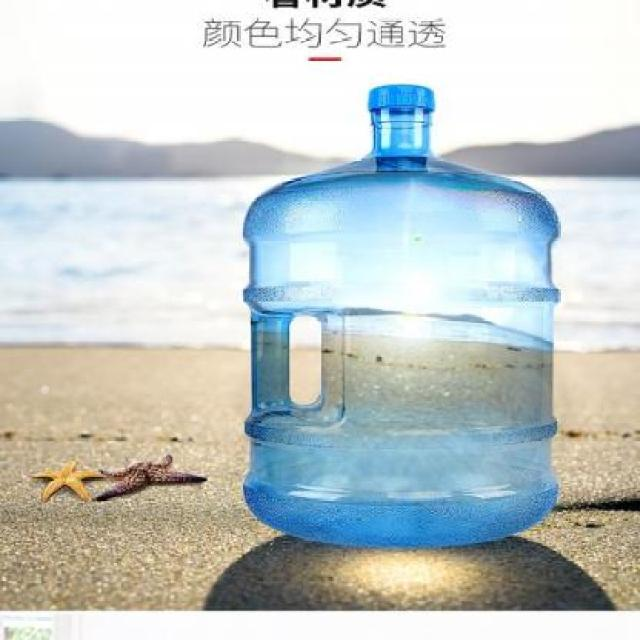coolerbottle: (237, 85, 567, 553)
